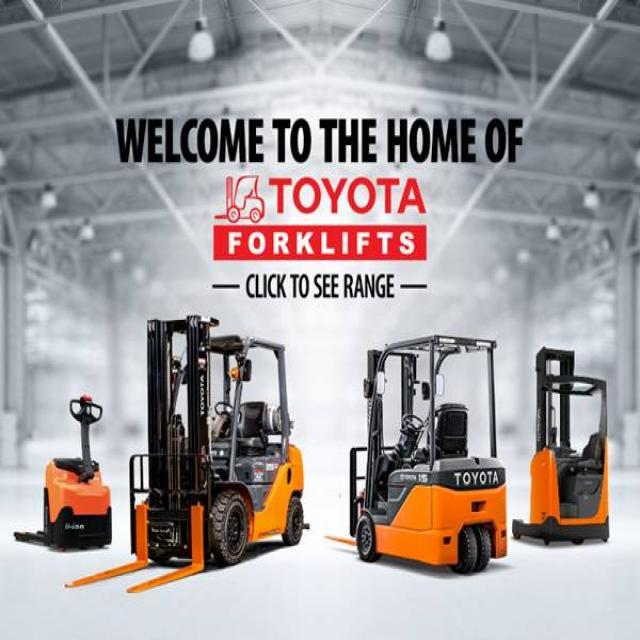forklift: (118, 303, 316, 569), (346, 318, 520, 586)
